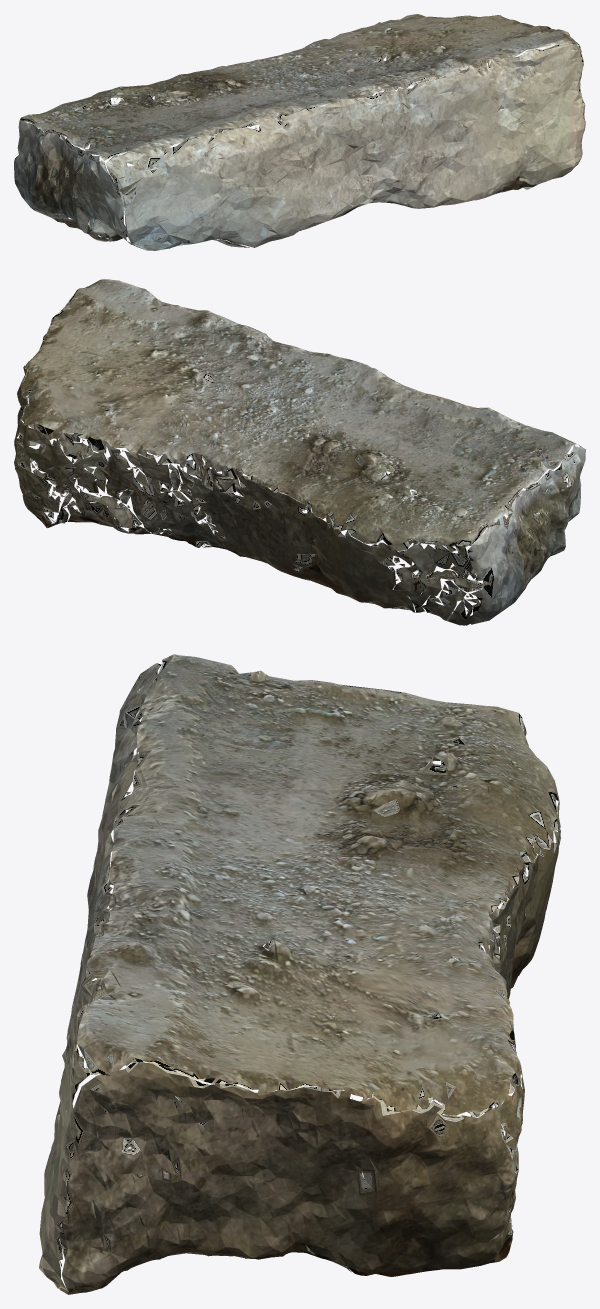
File: FRAG-S1-FS-011.glb
3 renders of one model, top to bottom at view 1: azimuth 30°, elevation 25°; view 2: azimuth 150°, elevation 25°; view 3: azimuth 270°, elevation 25°, orthographic. The views are drawn at different scales.
Visible parts, largest first — view 1: geometry_0; view 2: geometry_0; view 3: geometry_0.
Part boxes in pixels (x1,y1,x2,y2): geometry_0: (14,14,585,250); geometry_0: (14,279,585,625); geometry_0: (39,654,560,1294).
Size of the model in its own units: 1.64 by 0.4515 by 0.7777.
1 material, 1 textured.
